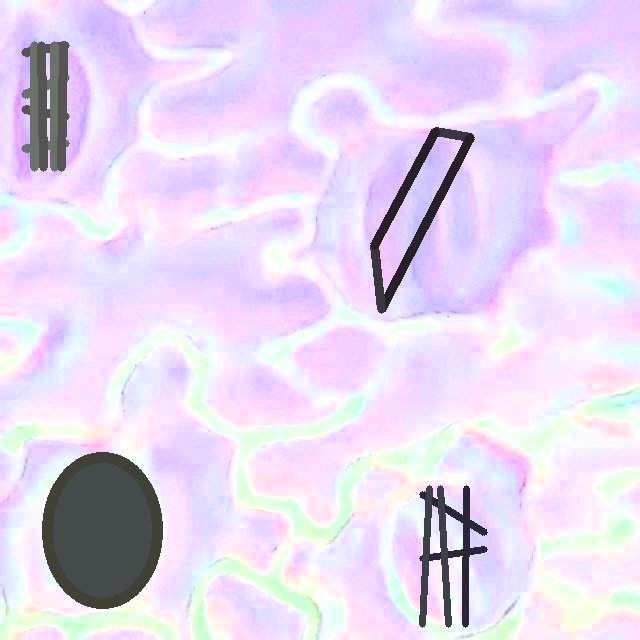open: (370, 127, 474, 313), (43, 452, 161, 608), (419, 486, 487, 627), (21, 41, 69, 171)
